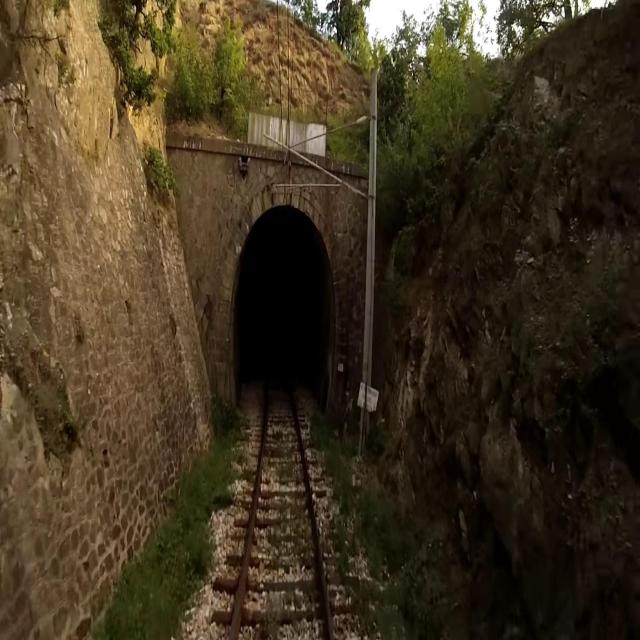rail-track: (237, 357, 329, 639)
